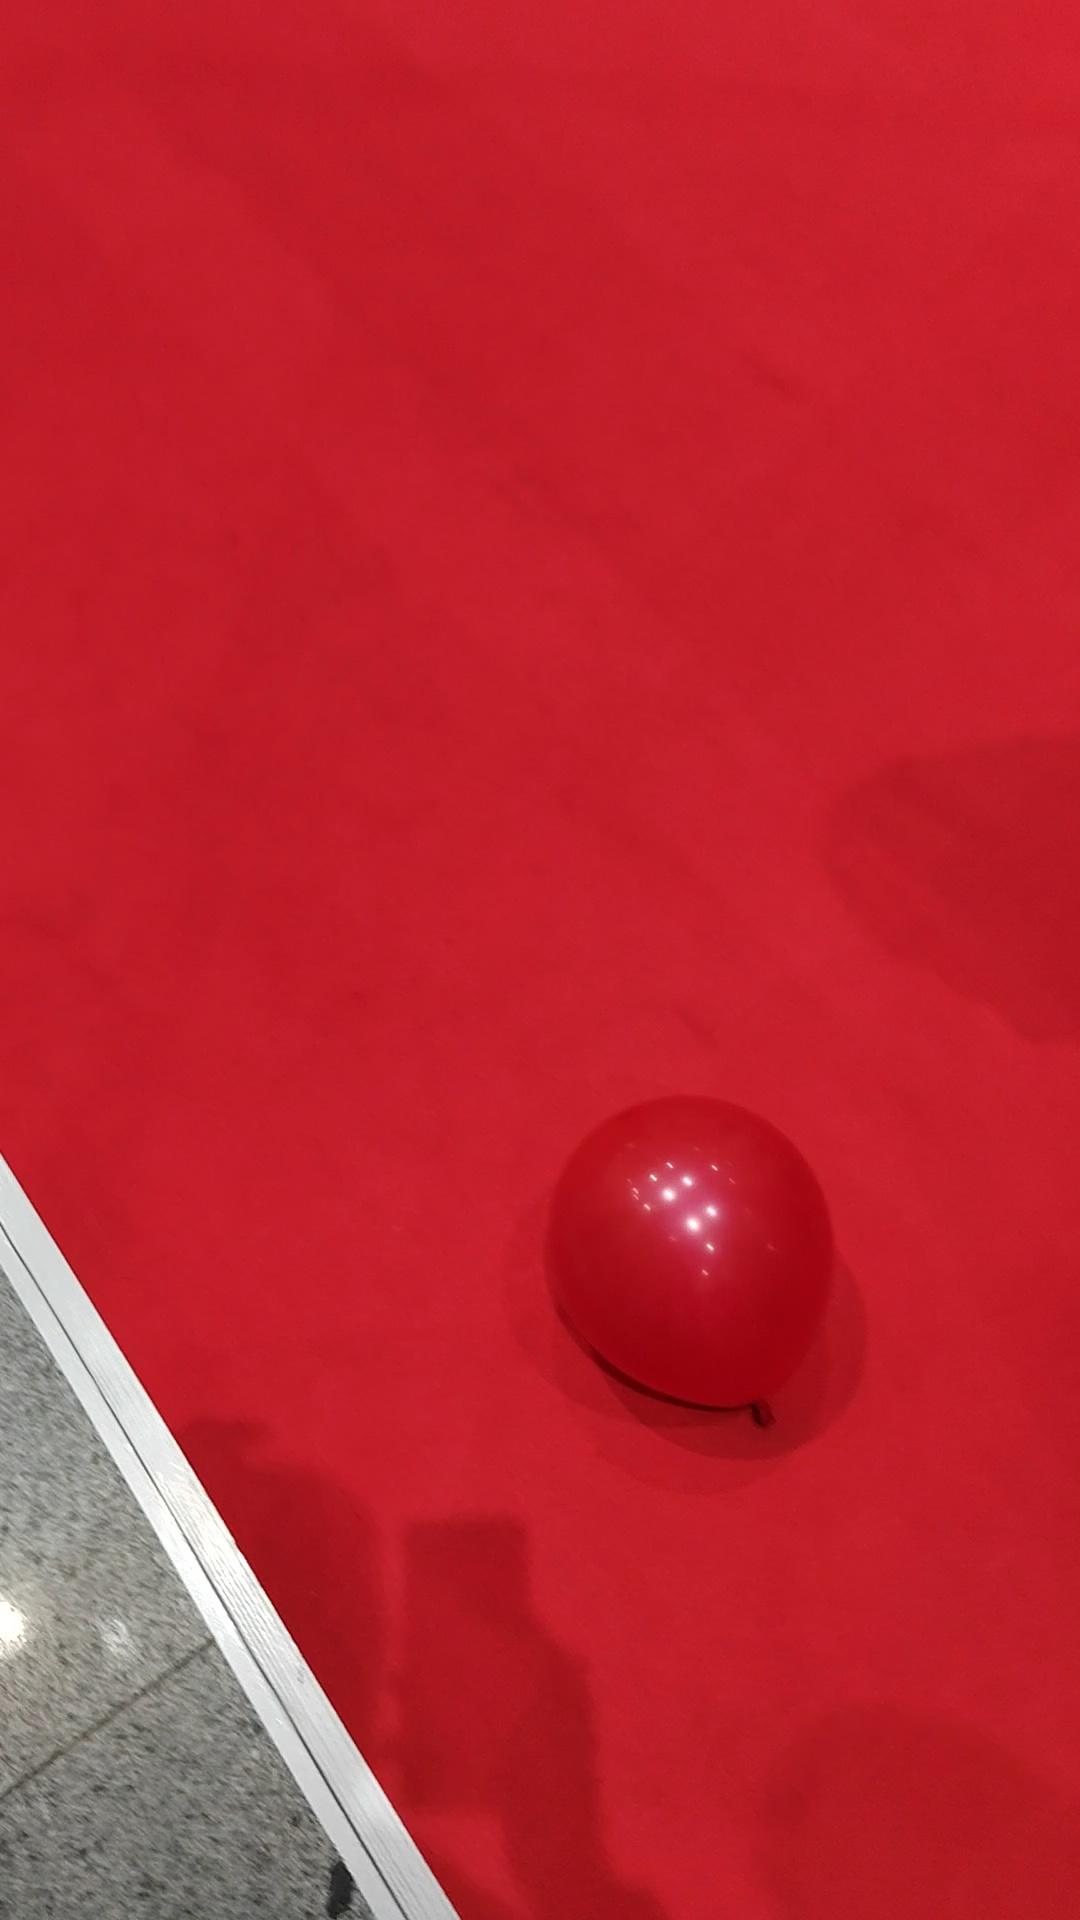red: (549, 1093, 833, 1419)
